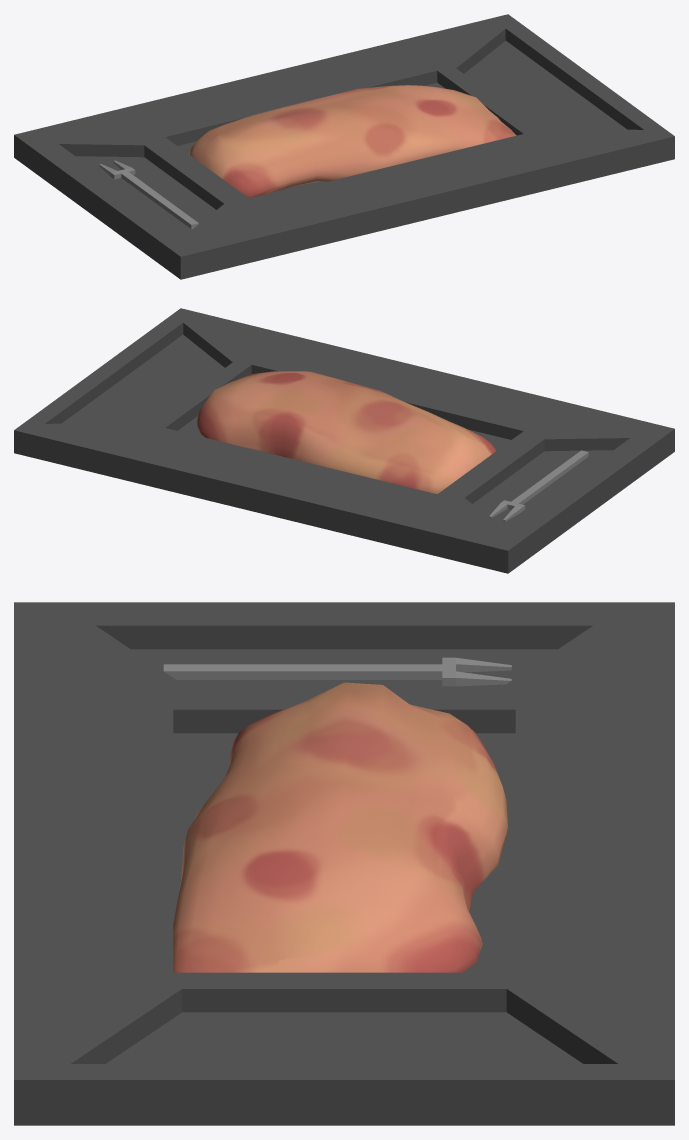
Rendered from Food plate.glb.
The picture shows the model from 3 angles, top to bottom: view 1: azimuth 30°, elevation 25°; view 2: azimuth 150°, elevation 25°; view 3: azimuth 270°, elevation 25°; orthographic projection. The views are drawn at different scales.
Visible parts, largest first — view 1: Cube, Cube.002, Cube.001; view 2: Cube, Cube.002, Cube.001; view 3: Cube, Cube.002, Cube.001.
Boxes of the visible parts, box(x1,y1,x2,y2) form: Cube: box(14, 14, 674, 279); Cube.002: box(189, 85, 516, 197); Cube.001: box(99, 160, 198, 229); Cube: box(14, 308, 674, 573); Cube.002: box(197, 371, 496, 493); Cube.001: box(489, 450, 588, 521); Cube: box(14, 602, 674, 1125); Cube.002: box(173, 682, 507, 972); Cube.001: box(163, 657, 511, 686).
Size of the model in its own units: 1.28 by 0.1433 by 0.746.
Materials: 3 (1 with a texture image).
